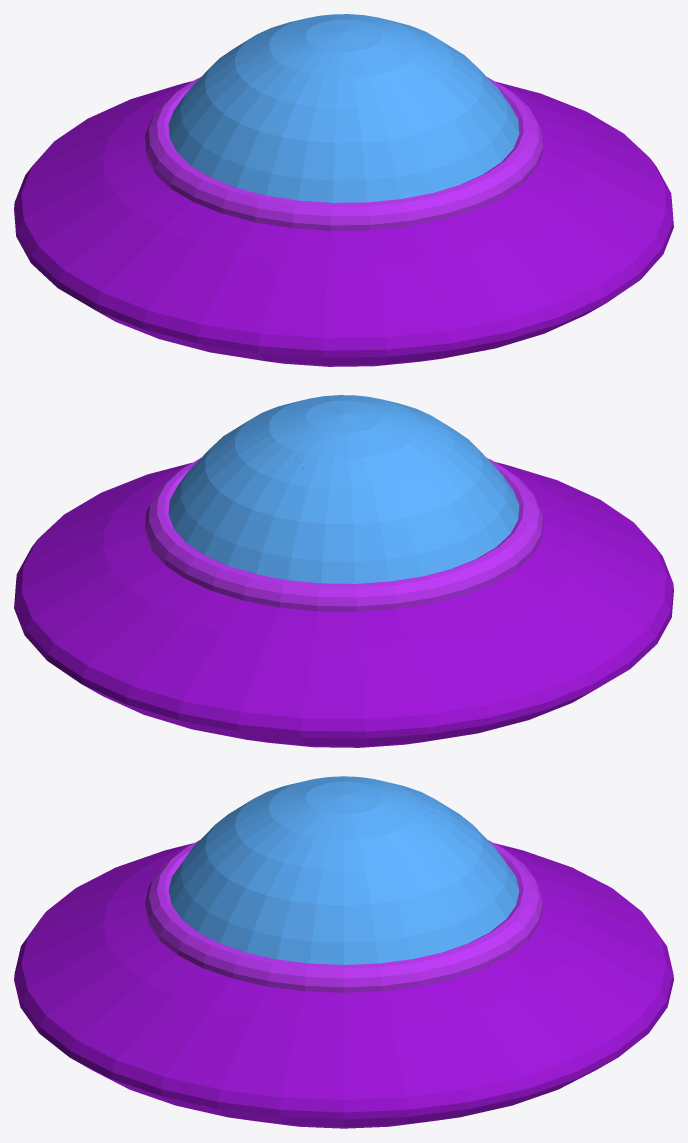
Rendered from UFO_Basic.fbx.
3 views of the same model, one above another, from view 1: azimuth 30°, elevation 25°; view 2: azimuth 150°, elevation 25°; view 3: azimuth 270°, elevation 25° (orthographic).
Visible parts, largest first — view 1: Sphere; view 2: Sphere; view 3: Sphere.
Part boxes in pixels (bbox=[...]): Sphere: bbox=[14, 14, 673, 366]; Sphere: bbox=[14, 395, 673, 747]; Sphere: bbox=[14, 776, 673, 1128].
Size of the model in its own units: 336 by 139 by 336.
